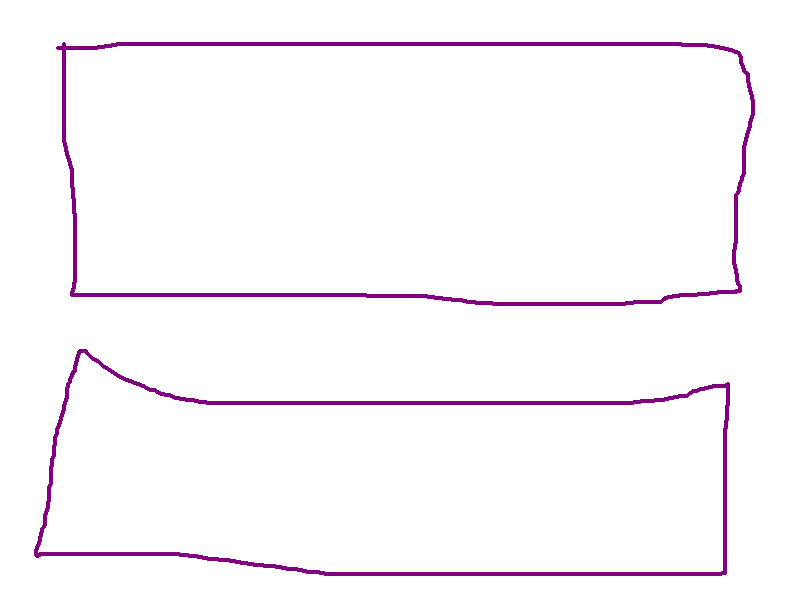rect: (54, 34, 752, 309), (28, 342, 737, 583)
